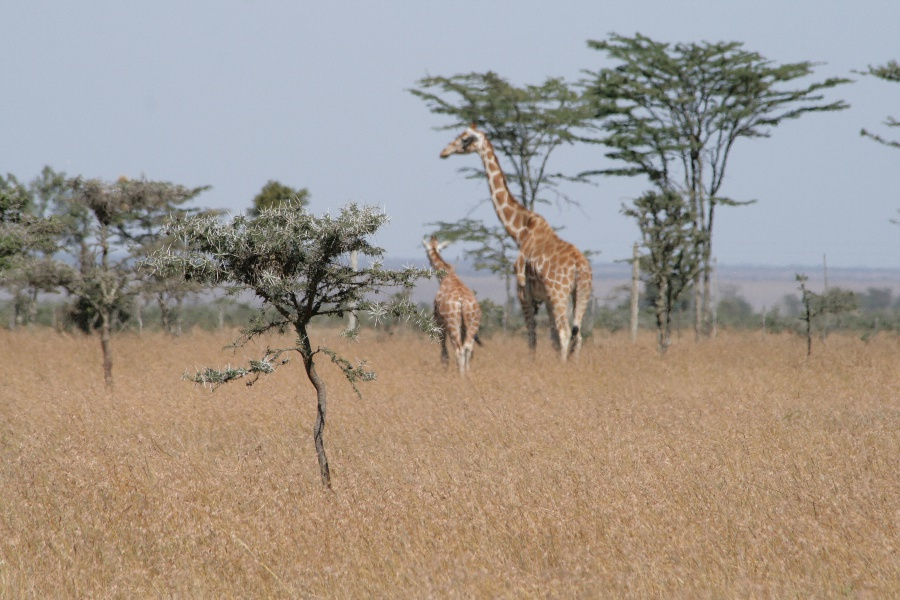giraffe: (438, 118, 598, 359), (415, 223, 486, 383)
